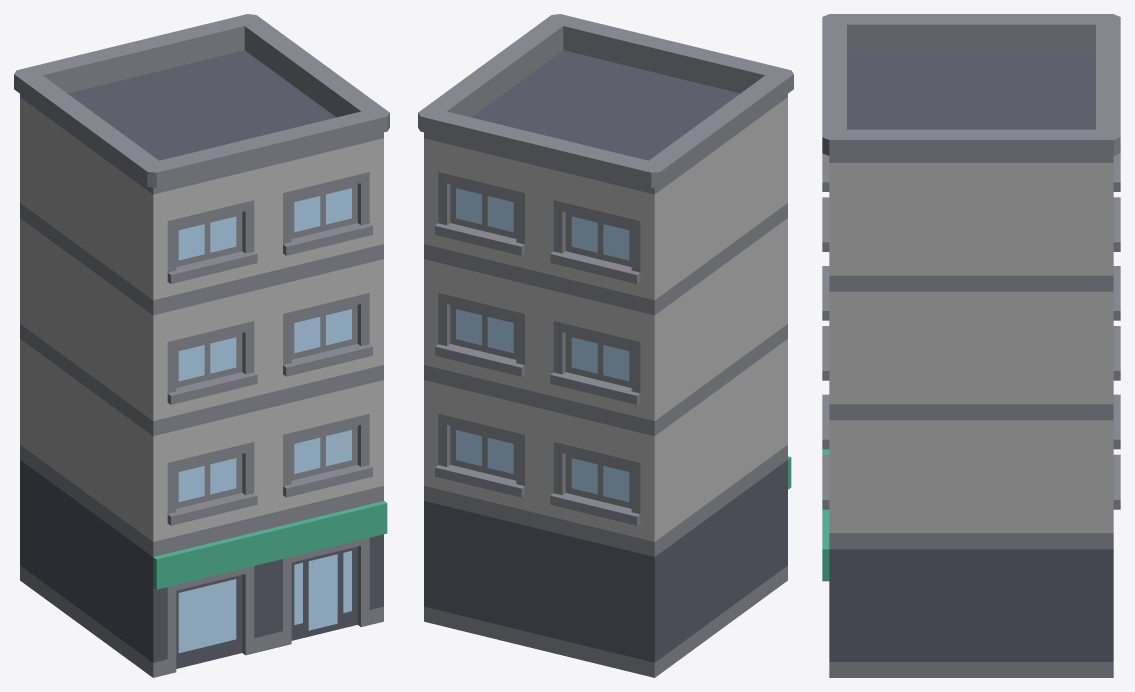
The model's file is building_large_b.glb.
3 renders of one model, left to right at view 1: azimuth 30°, elevation 25°; view 2: azimuth 150°, elevation 25°; view 3: azimuth 270°, elevation 25°, orthographic. The views are drawn at different scales.
Parts seen in each view (by area): view 1: large_buildingB; view 2: large_buildingB; view 3: large_buildingB.
Part boxes in pixels (bbox=[...]): large_buildingB: bbox=[14, 14, 389, 677]; large_buildingB: bbox=[418, 14, 793, 677]; large_buildingB: bbox=[822, 14, 1120, 677].
Size of the model in its own units: 6.72 by 13.44 by 6.72.
